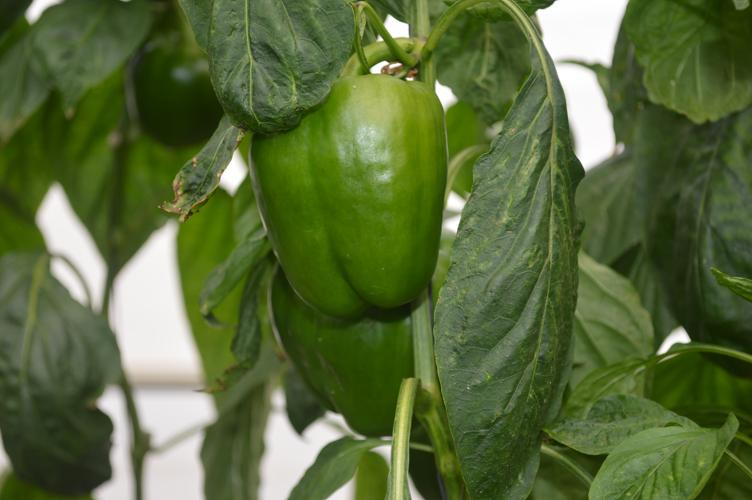BellPepper: (248, 78, 446, 307), (263, 271, 418, 432), (132, 42, 222, 145)
